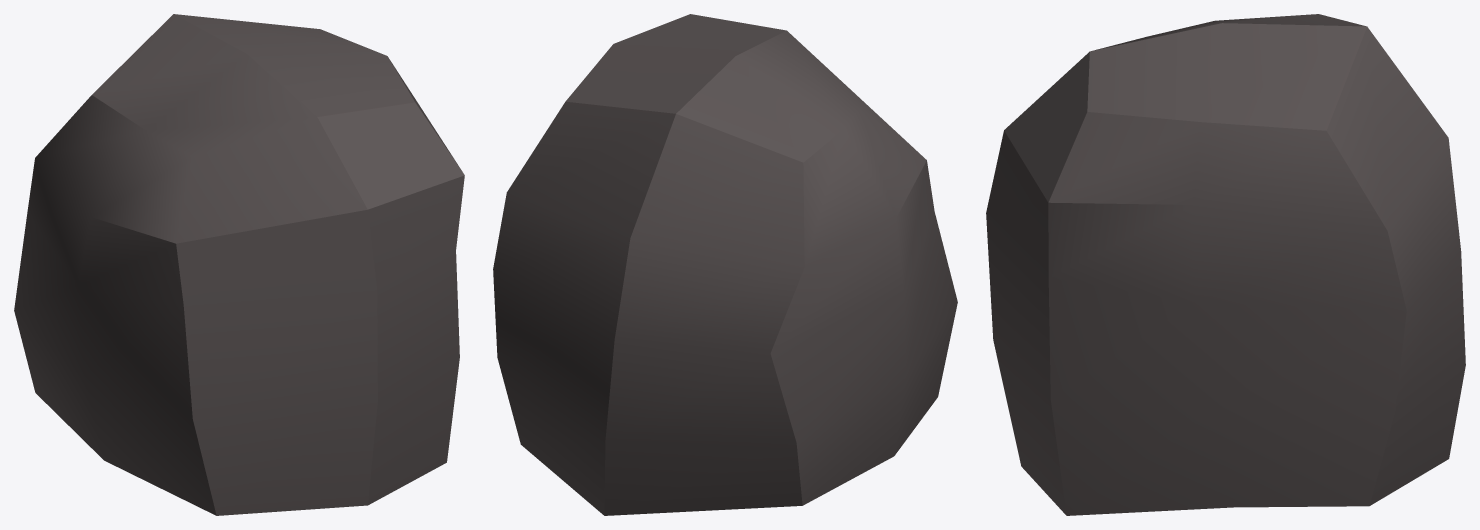
The model's file is PedraMedia1.fbx.
The picture shows the model from 3 angles, left to right: view 1: azimuth 30°, elevation 25°; view 2: azimuth 150°, elevation 25°; view 3: azimuth 270°, elevation 25°; orthographic projection. The views are drawn at different scales.
Visible parts, largest first — view 1: PedraMedia1; view 2: PedraMedia1; view 3: PedraMedia1.
Boxes of the visible parts, x1,y1,x2,y2 form: PedraMedia1: [14, 14, 464, 515]; PedraMedia1: [493, 14, 957, 515]; PedraMedia1: [986, 14, 1465, 515].
Bounding box in the file's own units: 0.3112 × 0.351 × 0.3566.
